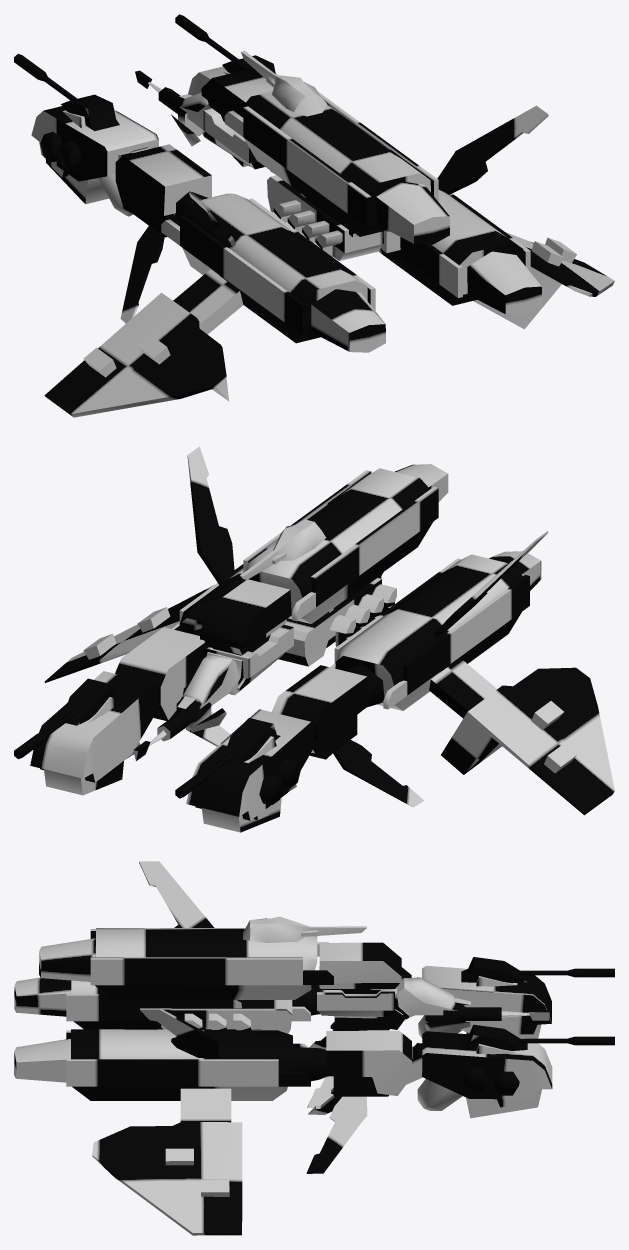
The model's file is goliath_spectrum.obj.
3 views of the same model, one above another, from view 1: azimuth 30°, elevation 25°; view 2: azimuth 150°, elevation 25°; view 3: azimuth 270°, elevation 25° (orthographic). The views are drawn at different scales.
Visible parts, largest first — view 1: main; view 2: main; view 3: main.
Part boxes in pixels (x1,y1,x2,y2): main: (14, 14, 614, 417); main: (14, 446, 614, 832); main: (14, 861, 614, 1235).
Size of the model in its own units: 121 by 50.24 by 135.
Materials: 1 (1 with a texture image).
